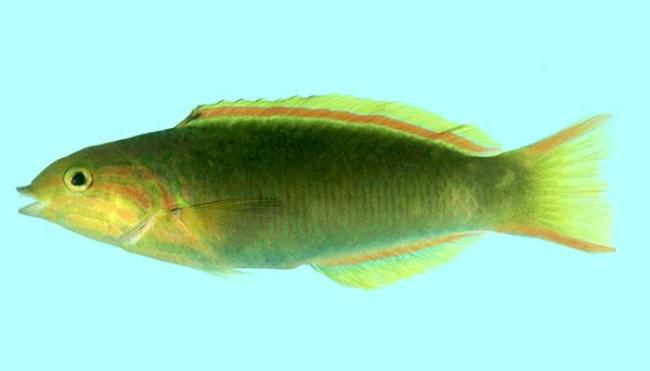fish: (16, 93, 620, 289)
